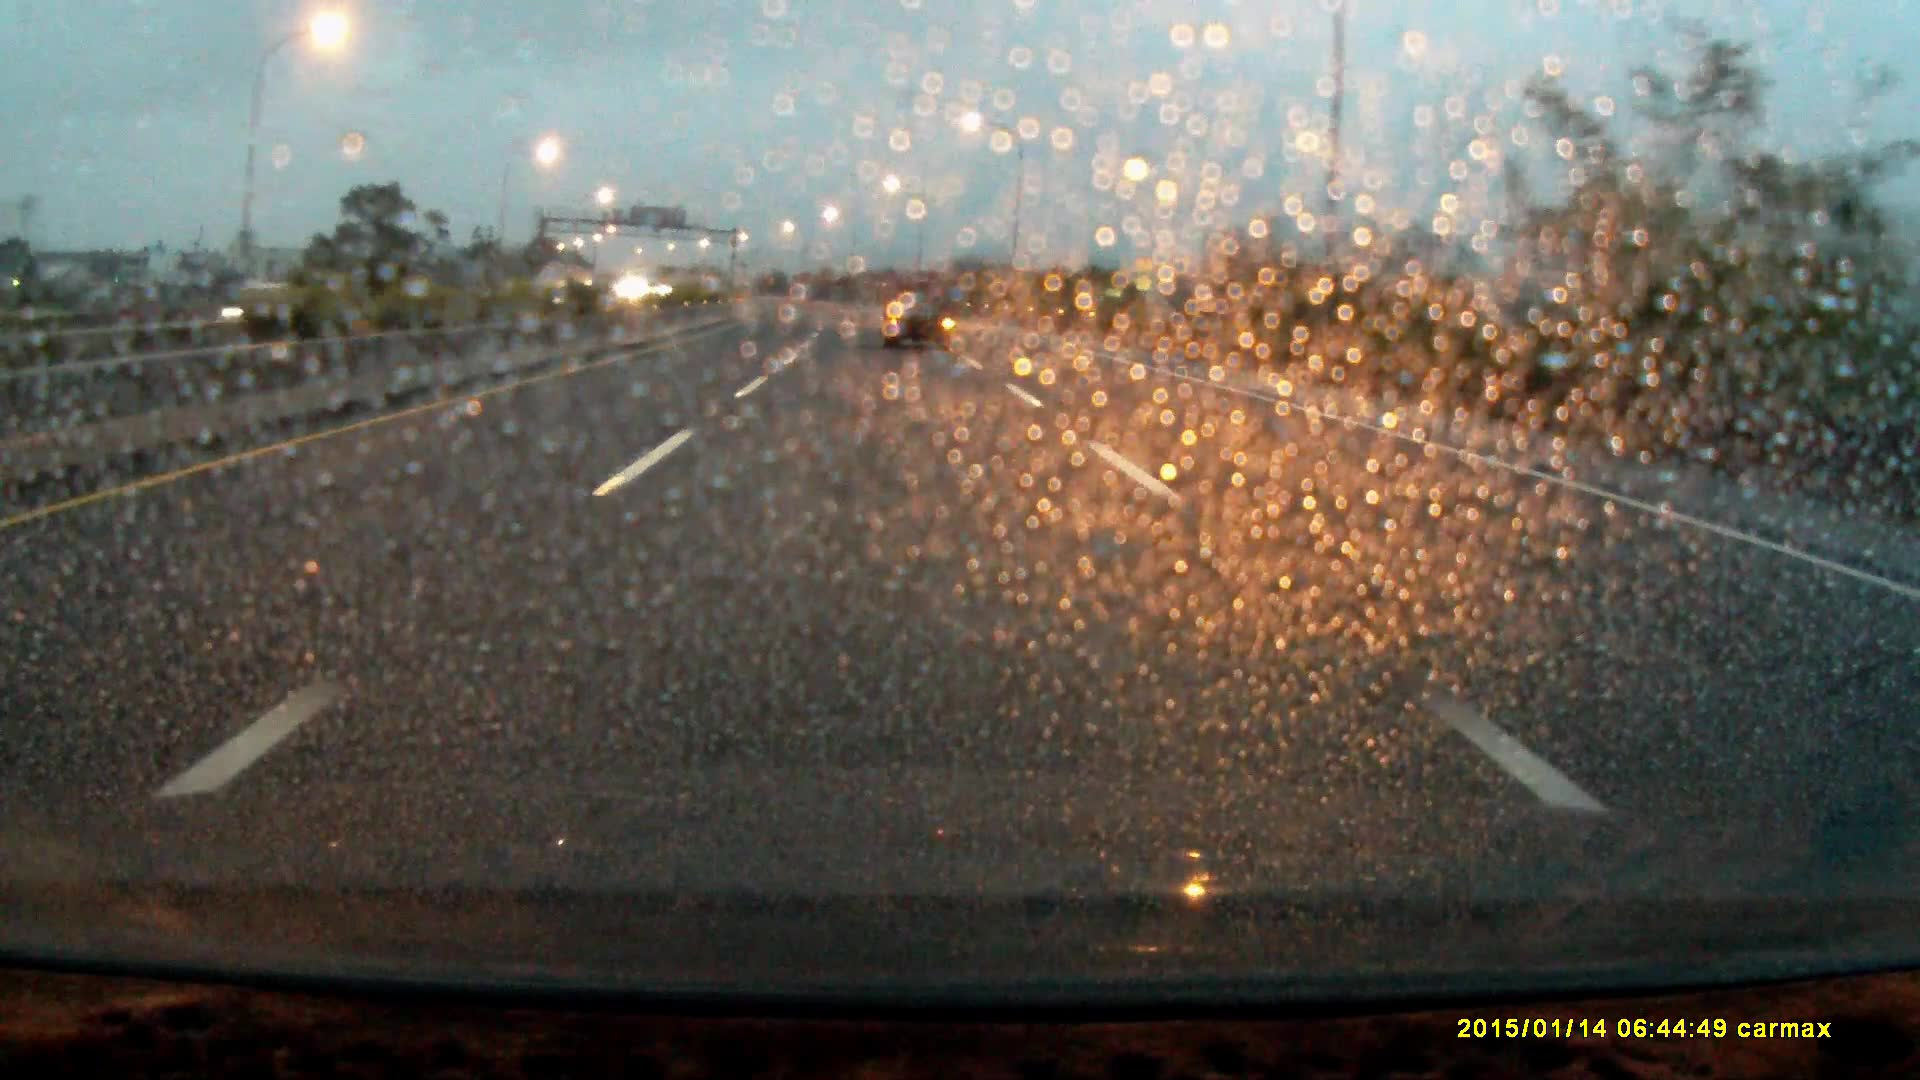vehicle: (884, 269, 953, 353)
